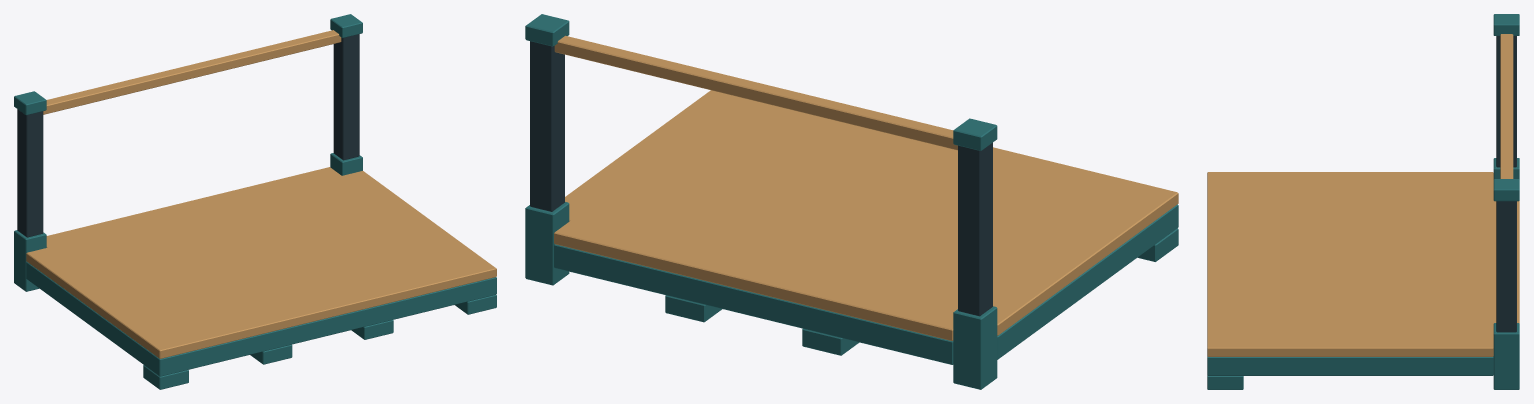
File: flex-bay.glb
3 views of the same model, side by side, from view 1: azimuth 30°, elevation 25°; view 2: azimuth 150°, elevation 25°; view 3: azimuth 270°, elevation 25° (orthographic). The views are drawn at different scales.
Parts seen in each view (by area): view 1: flex-bay__batch_02, flex-bay__batch_00, flex-bay__batch_01; view 2: flex-bay__batch_02, flex-bay__batch_00, flex-bay__batch_01; view 3: flex-bay__batch_02, flex-bay__batch_00, flex-bay__batch_01.
Part boxes in pixels (x1,y1,x2,y2): flex-bay__batch_02: (26,30,496,358); flex-bay__batch_00: (14,14,496,389); flex-bay__batch_01: (17,34,359,237); flex-bay__batch_02: (554,35,1178,341); flex-bay__batch_00: (525,14,1178,389); flex-bay__batch_01: (530,41,992,316); flex-bay__batch_02: (1207,34,1519,356); flex-bay__batch_00: (1207,14,1519,389); flex-bay__batch_01: (1496,36,1516,332).
Size of the model in its own units: 1.6 by 0.85 by 1.2.
